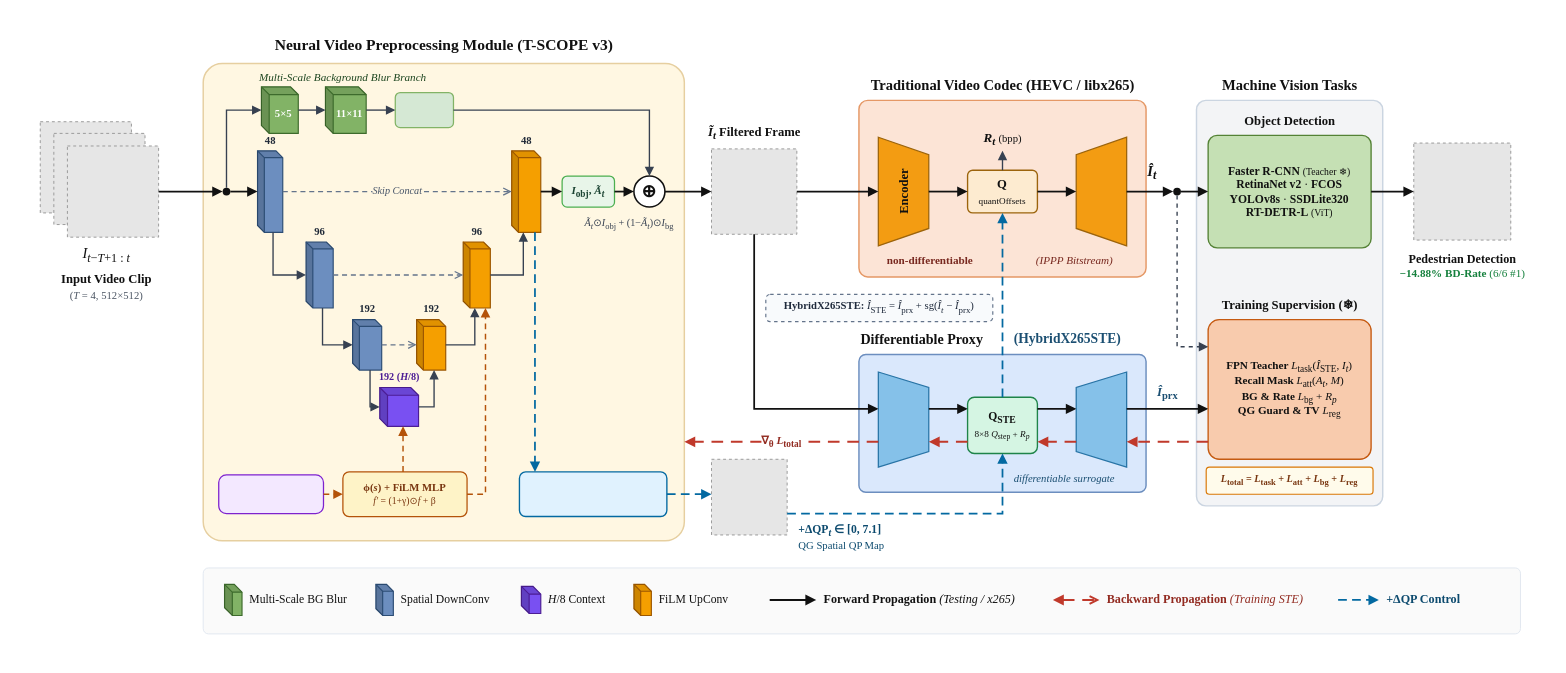
This 1566x673 diagram has some shape labels left out. Grey dashed boxes stand in for pictures. Each missing label, with the centre of its shape:
CRF / QP ( s , f ): pixel 271 494
Decoder: pixel 1101 191
I bg, t: pixel 424 110
IDCT: pixel 1101 419
MC + DCT: pixel 903 419
One-Sided QG Head 16×16 Pool (τ=0.38): pixel 592 494
